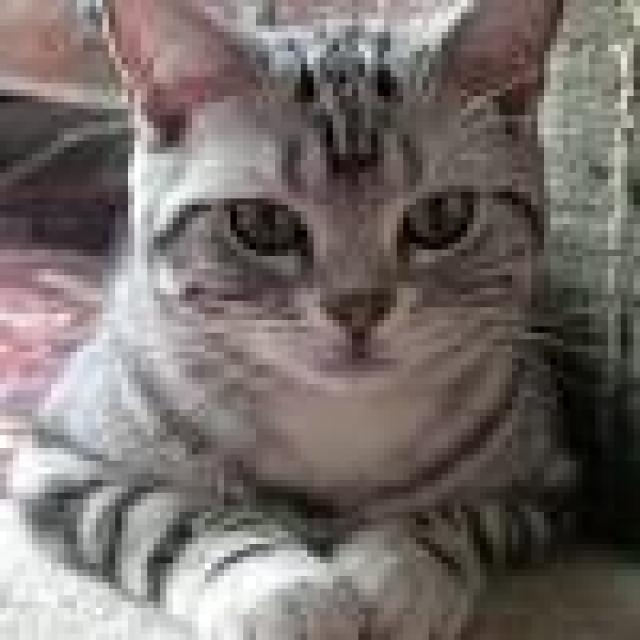cat-face: (65, 0, 606, 458)
